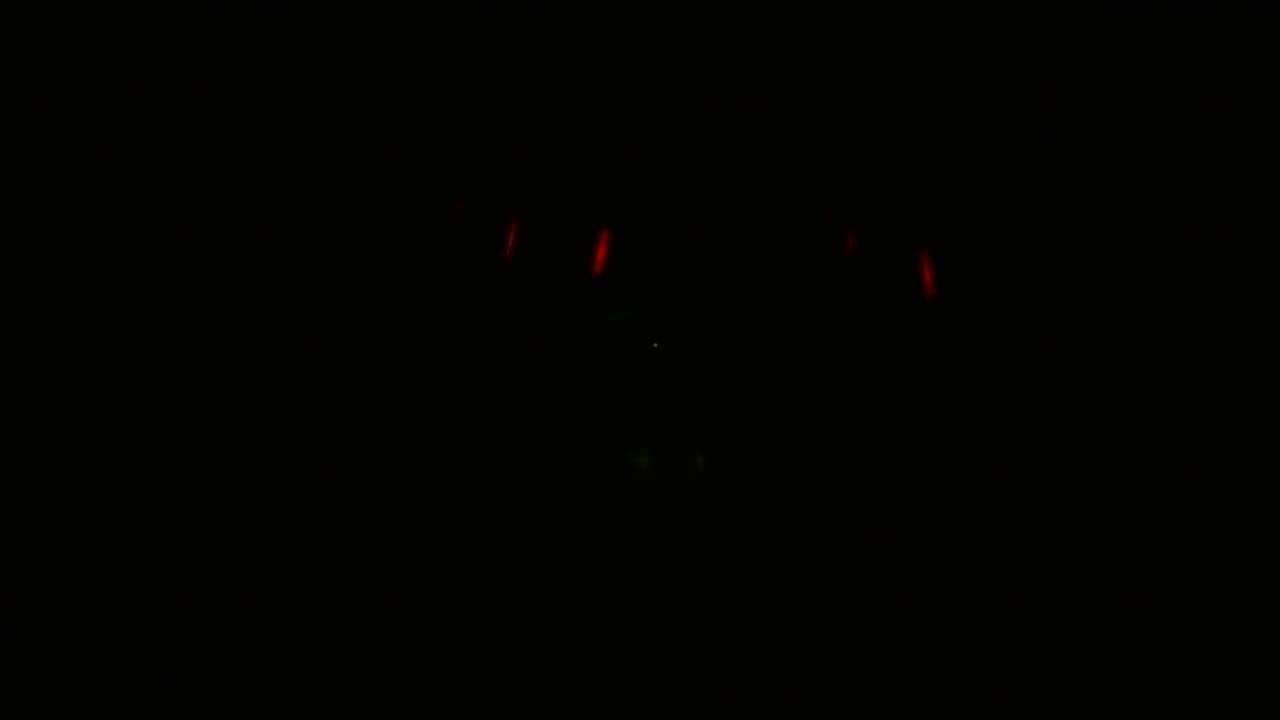pair1: (508, 221, 615, 277)
